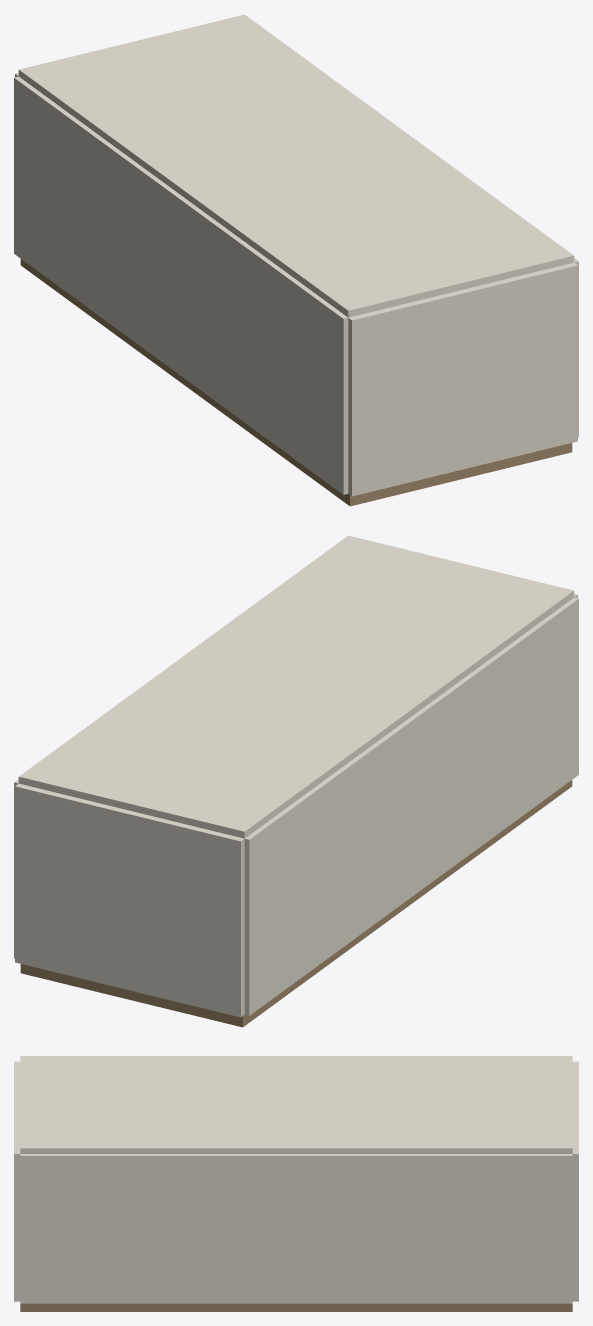
The model's file is first-ruth-house.glb.
3 views of the same model, one above another, from view 1: azimuth 30°, elevation 25°; view 2: azimuth 150°, elevation 25°; view 3: azimuth 270°, elevation 25° (orthographic). The views are drawn at different scales.
Parts seen in each view (by area): view 1: Ceiling, Left wall, Lounge end wall, Floor base; view 2: Ceiling, Left wall, Back kitchen wall, Floor base; view 3: Right wall, Ceiling, Floor base, Lounge end wall, Back kitchen wall.
Boxes of the visible parts, <box> form: Ceiling: <box>18,14,574,317</box>; Left wall: <box>14,76,348,494</box>; Lounge end wall: <box>348,262,577,496</box>; Floor base: <box>20,259,572,506</box>; Ceiling: <box>18,535,574,838</box>; Left wall: <box>244,597,578,1015</box>; Back kitchen wall: <box>15,783,244,1017</box>; Floor base: <box>20,780,572,1027</box>; Right wall: <box>20,1154,572,1303</box>; Ceiling: <box>20,1056,572,1153</box>; Floor base: <box>20,1303,572,1311</box>; Lounge end wall: <box>14,1061,20,1301</box>; Back kitchen wall: <box>572,1061,578,1301</box>.
Bounding box in the file's own units: 3.92 × 3.12 × 9.72.
